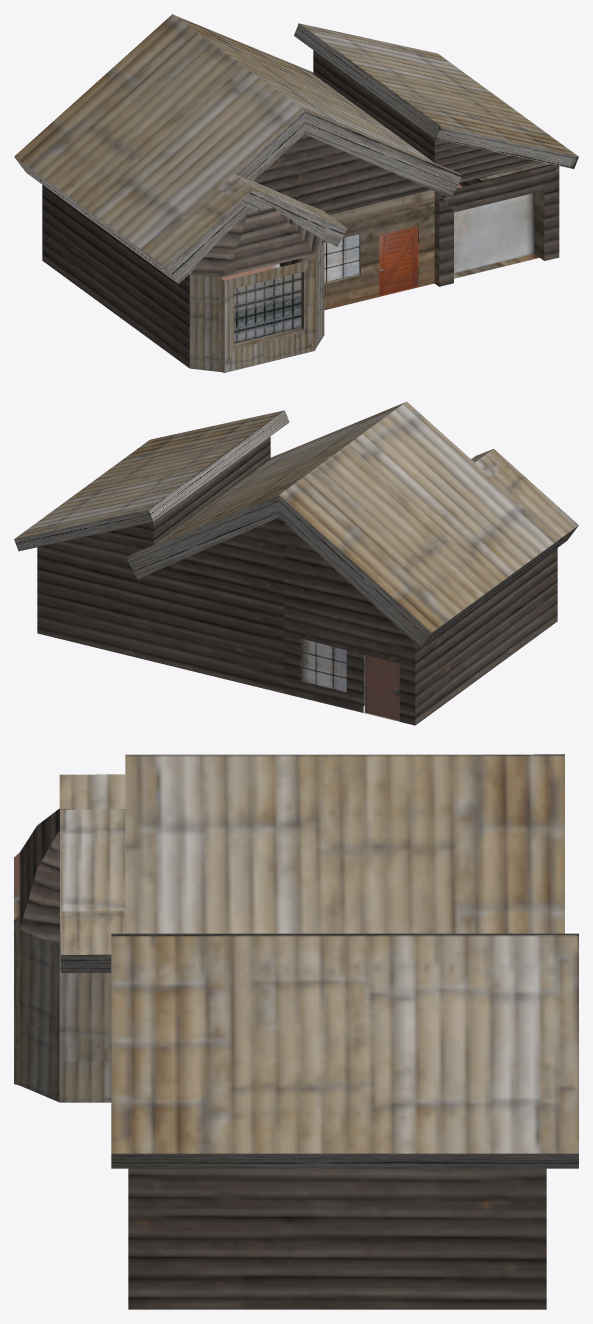
File: cabin.fbx
3 views of the same model, one above another, from view 1: azimuth 30°, elevation 25°; view 2: azimuth 150°, elevation 25°; view 3: azimuth 270°, elevation 25° (orthographic). The views are drawn at different scales.
Parts seen in each view (by area): view 1: Cube; view 2: Cube; view 3: Cube.
Part boxes in pixels (x1,y1,x2,y2): Cube: [14, 14, 578, 372]; Cube: [14, 401, 578, 725]; Cube: [14, 754, 578, 1309].
Size of the model in its own units: 2846 by 1331 by 1958.
